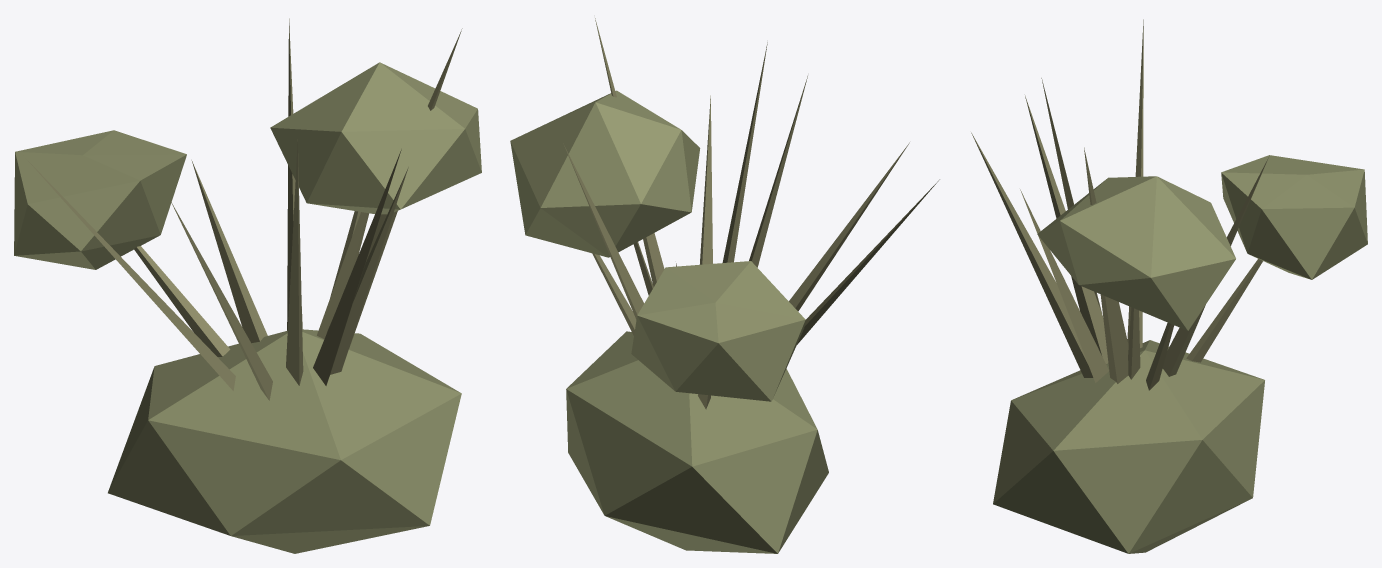
The model's file is scrub_2.glb.
3 renders of one model, left to right at view 1: azimuth 30°, elevation 25°; view 2: azimuth 150°, elevation 25°; view 3: azimuth 270°, elevation 25°, orthographic. The views are drawn at different scales.
Parts seen in each view (by area): view 1: scrub_2.001; view 2: scrub_2.001; view 3: scrub_2.001.
Boxes of the visible parts, x1=… form: scrub_2.001: x1=14, y1=18, x2=481, y2=553; scrub_2.001: x1=510, y1=18, x2=939, y2=553; scrub_2.001: x1=971, y1=19, x2=1367, y2=553.
Bounding box in the file's own units: 1.48 × 1.59 × 1.23.
